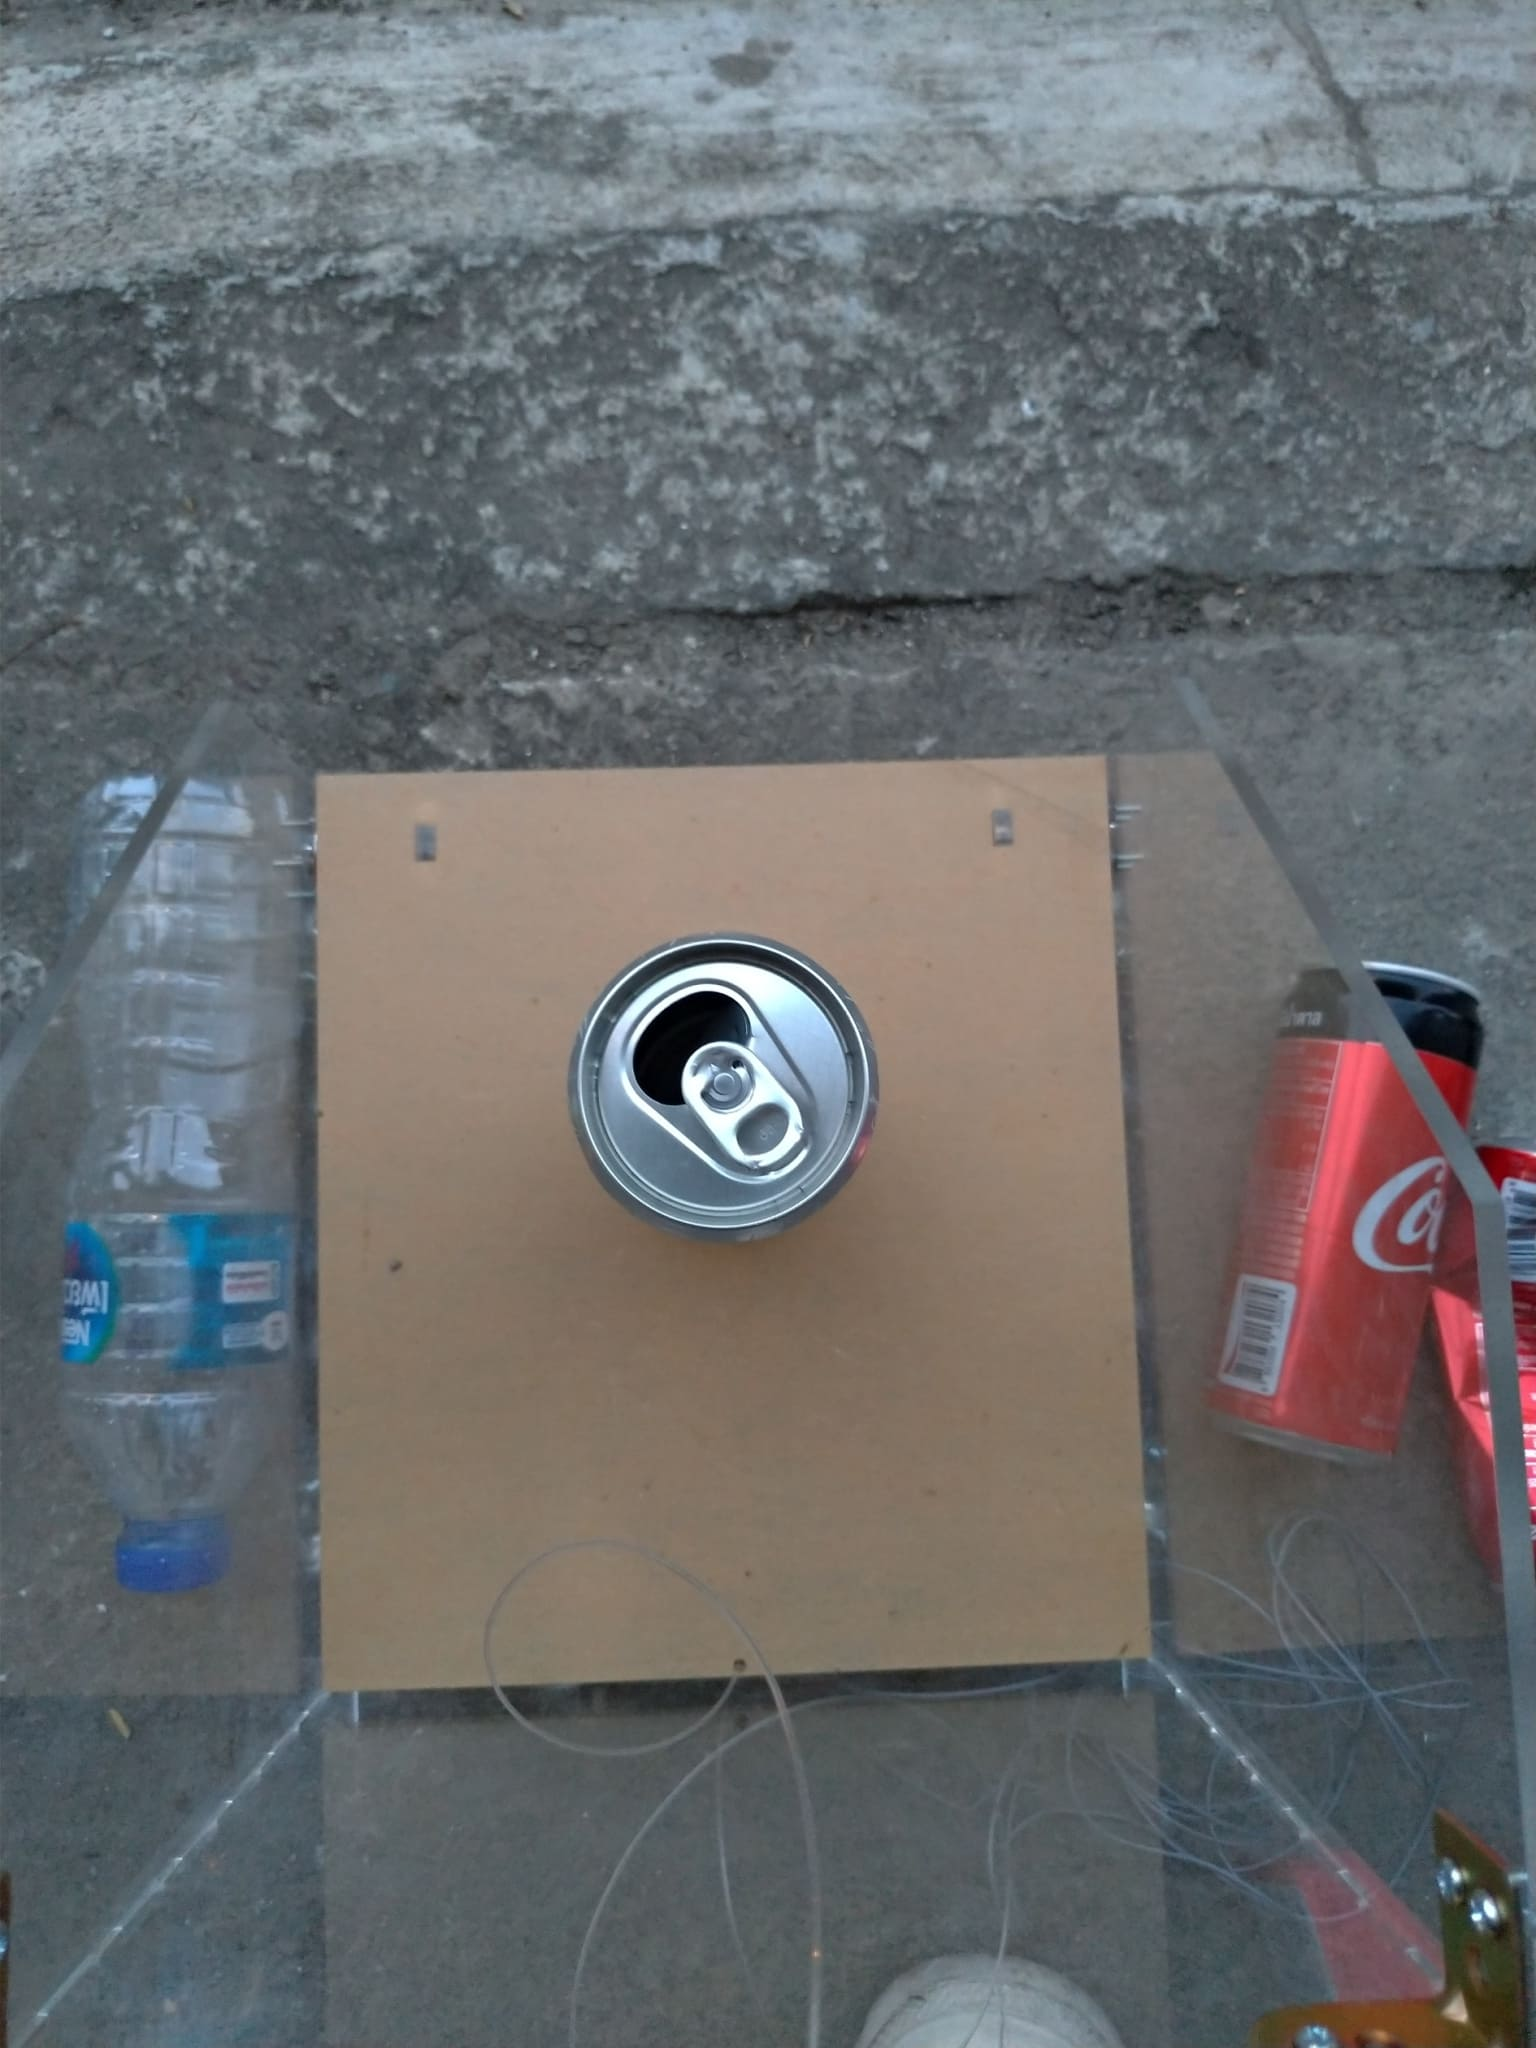AlCan: (1200, 958, 1488, 1474), (578, 932, 886, 1245), (1413, 1151, 1536, 1601)
PlasticBottle: (53, 777, 315, 1587)
